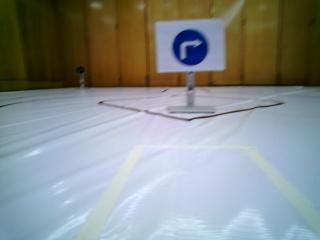right: (157, 23, 221, 74)
